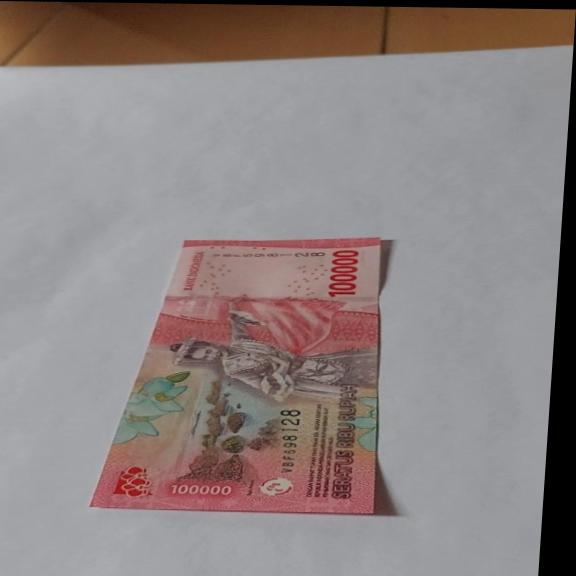Kertas: (88, 232, 397, 514), (325, 248, 362, 298)
